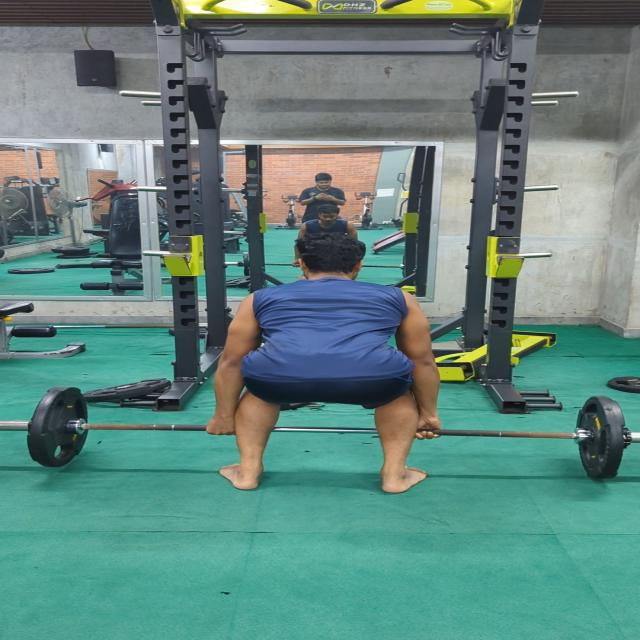Normal_Deadlifts: (202, 234, 446, 495)
